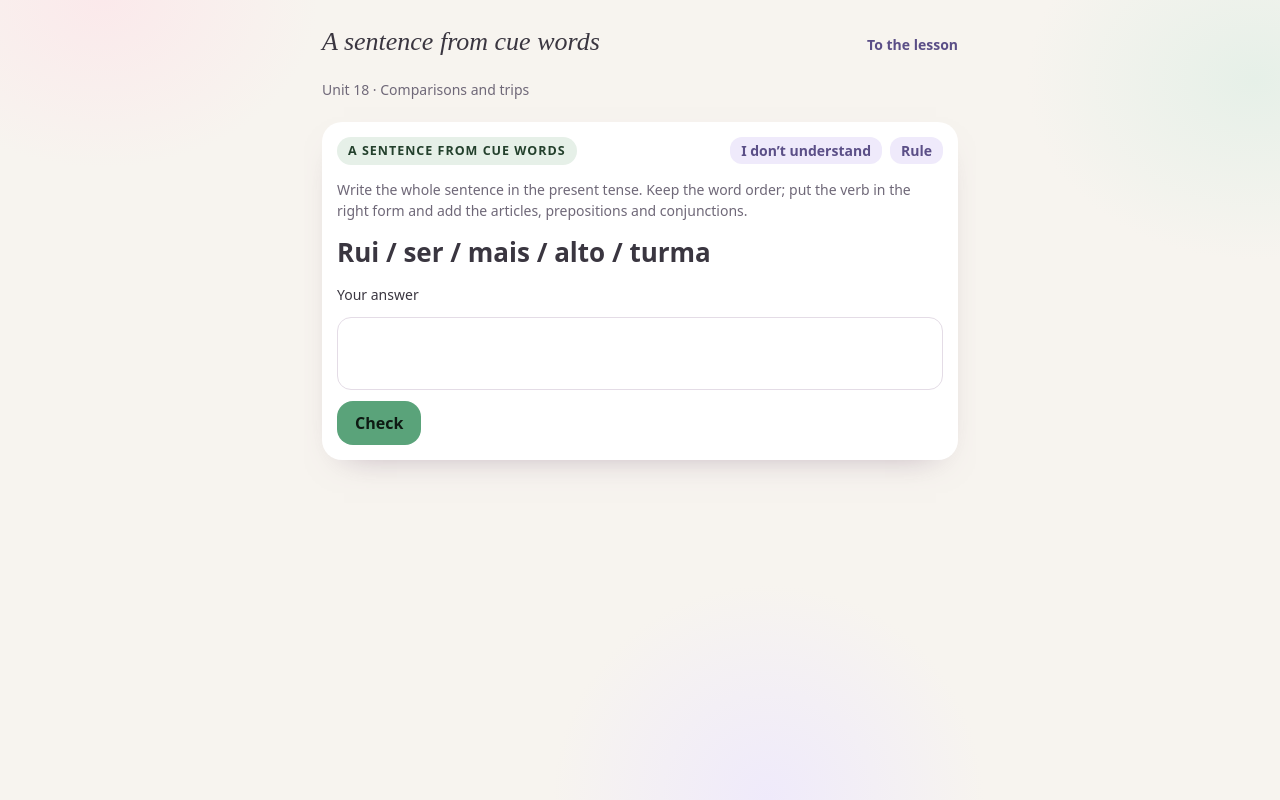
Scenario: PackDrill › grades a right answer, logs it, and moves on
Expected: the text with test id "pack-drill-prompt" reads "Rui / ser / mais / alto / turma", [337,234,711,270]
In the text box with test id "pack-drill-answer": (640, 353) [337,316,943,390], type "O Rui é o mais alto da turma."
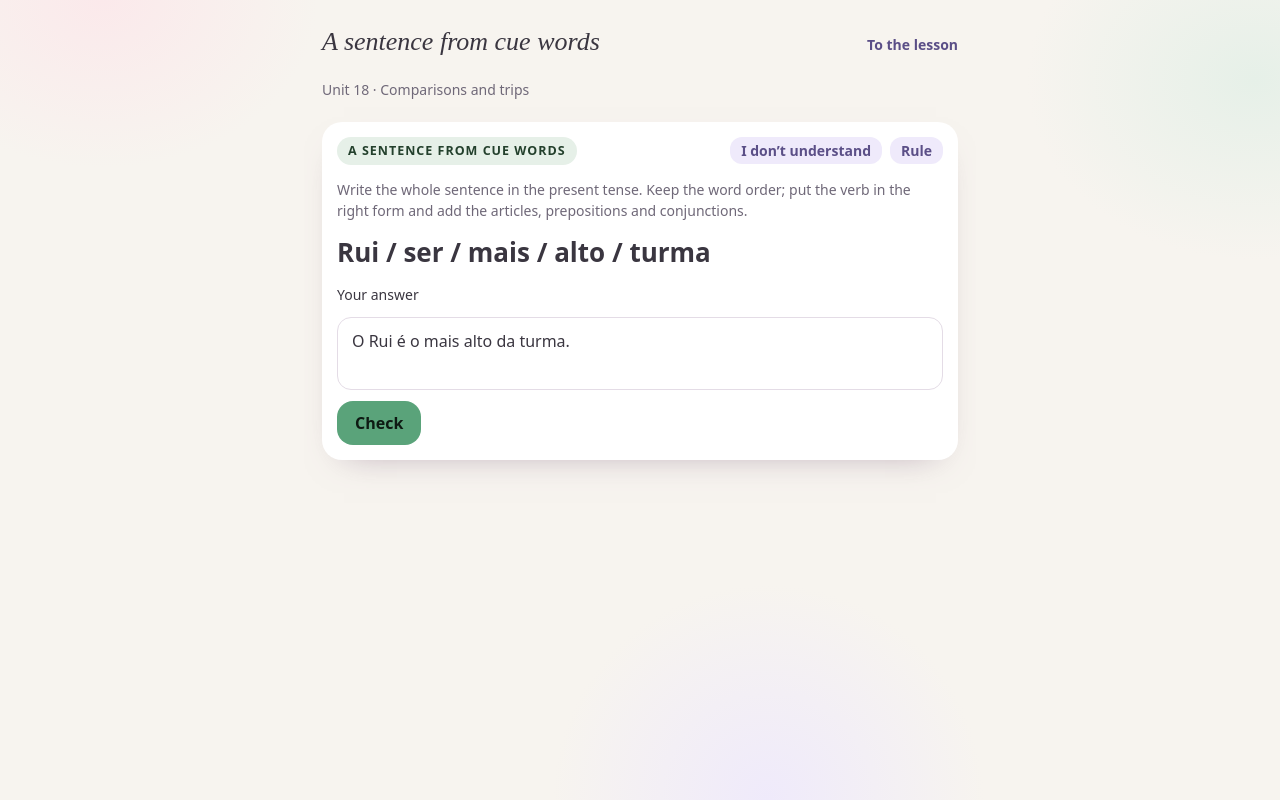
Click the button "Check": (379, 423) [337,401,421,445]
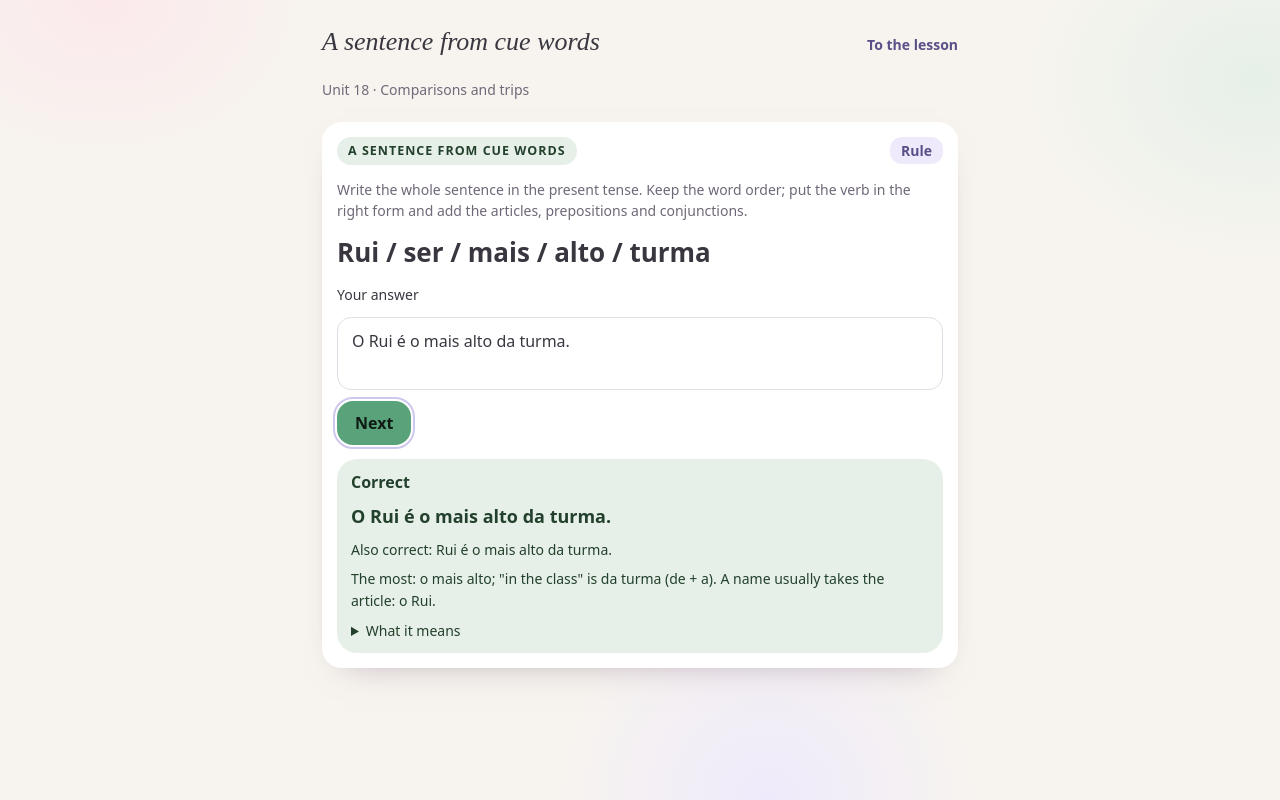
Now the text with test id "pack-drill-why" shows "The most: o mais alto; \"in the class\" is da turma (de + a). A name usually takes the article: o Rui.", box [351,570,884,610]
Click the button "Next": (374, 423) [337,401,411,445]
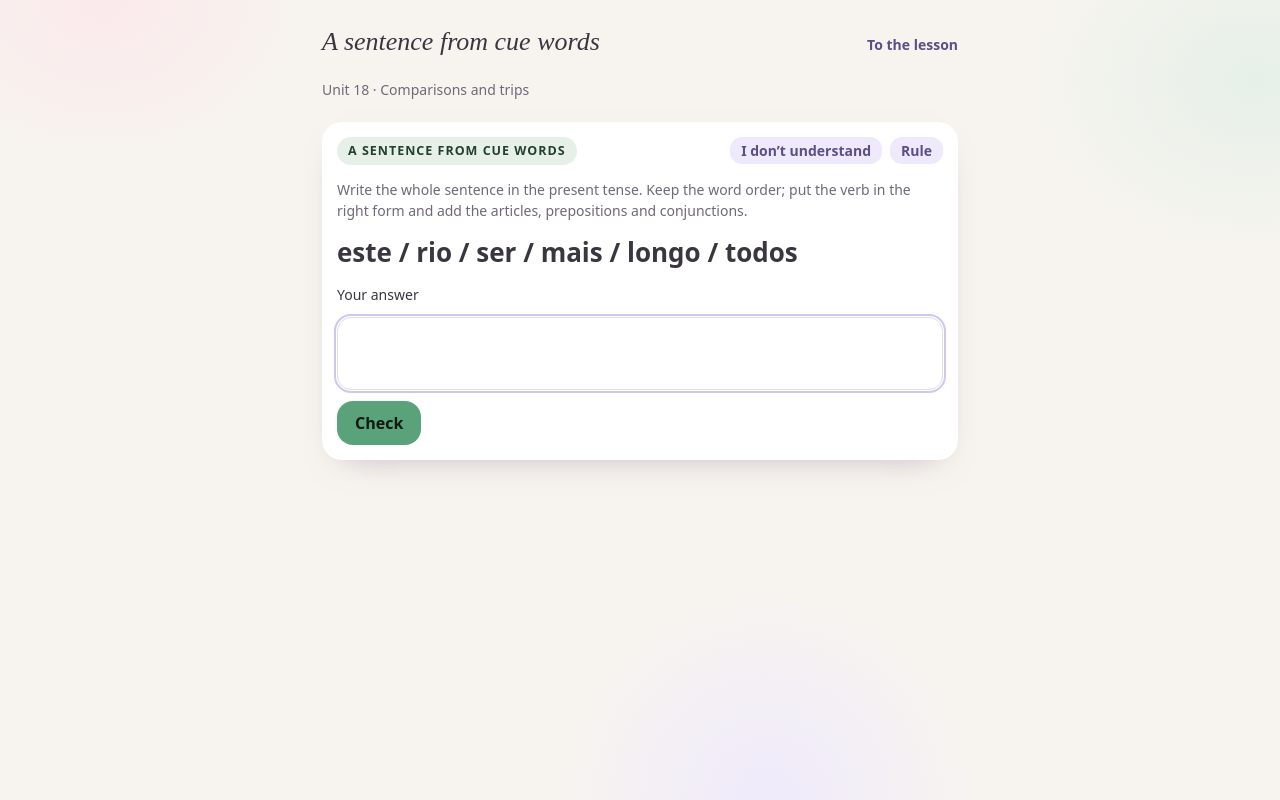
Now the text with test id "pack-drill-prompt" reads "este / rio / ser / mais / longo / todos", box [337,234,798,270]
Now the message with test id "pack-drill-feedback" is gone
